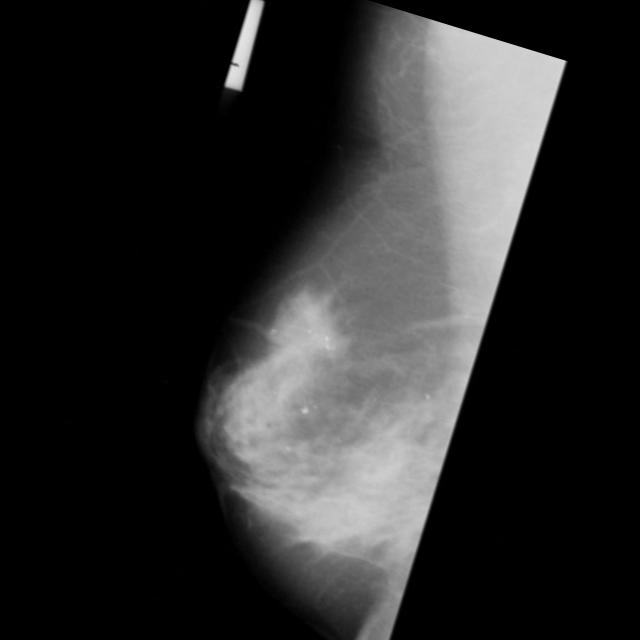ARCH: (264, 280, 392, 408)
